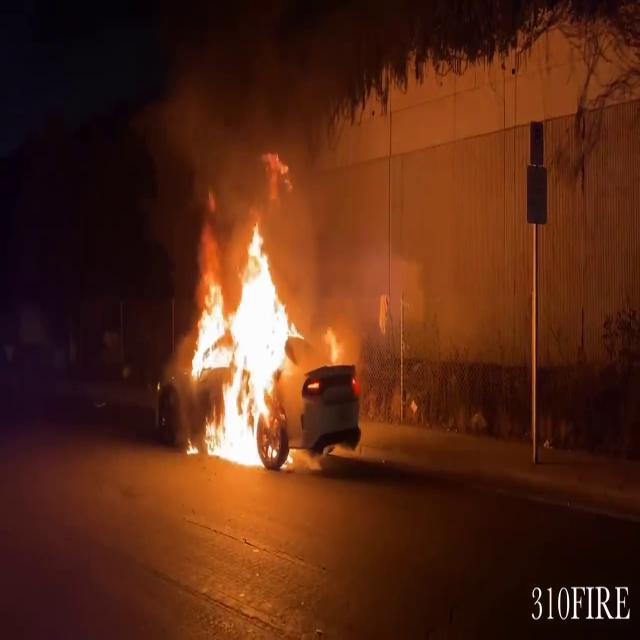Fire: (178, 193, 317, 471)
Smoke: (154, 5, 322, 226)
